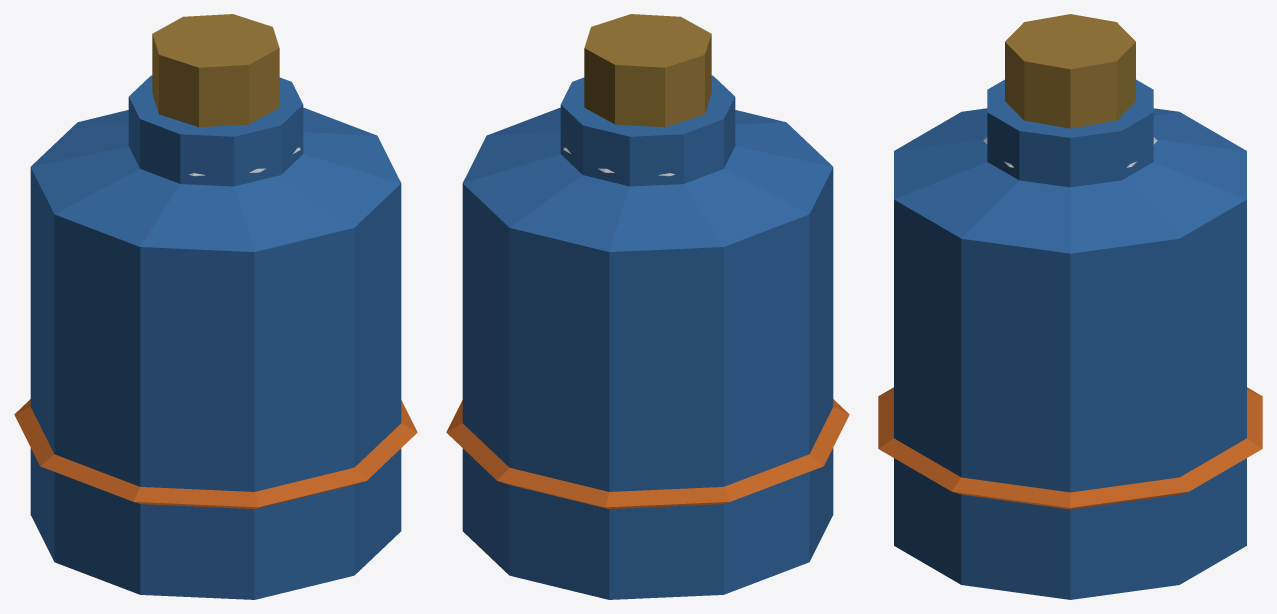
Rendered from raava.glb.
3 views of the same model, side by side, from view 1: azimuth 30°, elevation 25°; view 2: azimuth 150°, elevation 25°; view 3: azimuth 270°, elevation 25° (orthographic).
Parts seen in each view (by area): view 1: m; view 2: m; view 3: m.
Part boxes in pixels (<box>): m: <box>14,14,417,599</box>; m: <box>446,14,849,599</box>; m: <box>878,14,1262,599</box>.
Bounding box in the file's own units: 0.074 × 0.097 × 0.0704.
